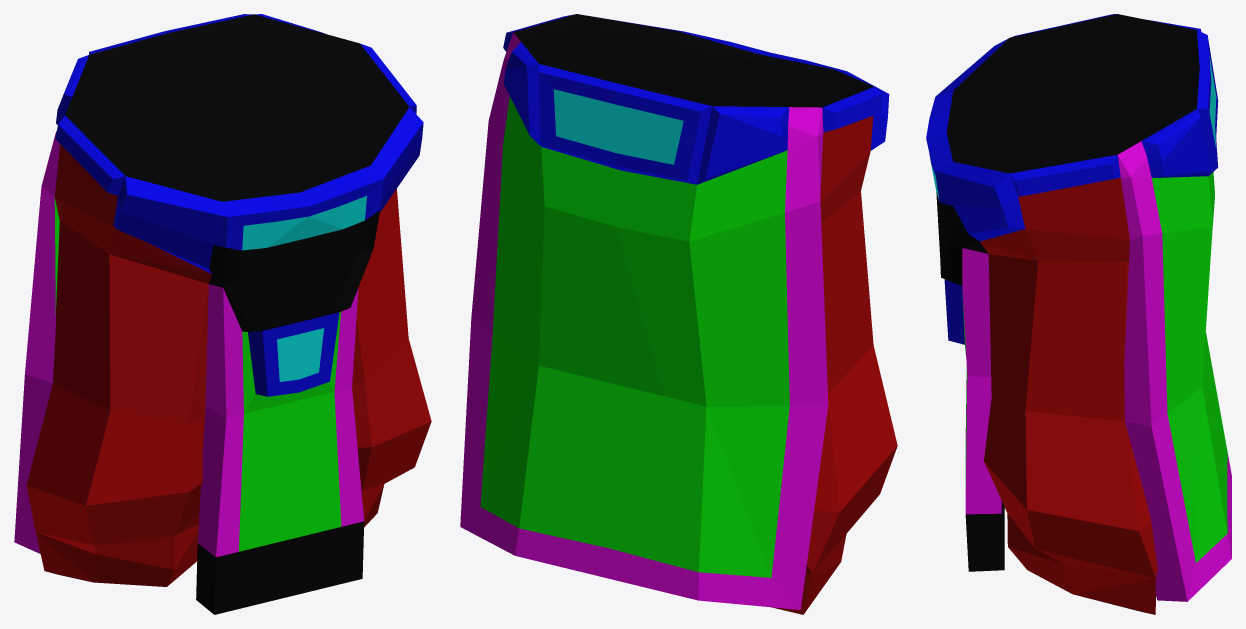
File: Chr_Hips_Male_Static_22.fbx
3 views of the same model, side by side, from view 1: azimuth 30°, elevation 25°; view 2: azimuth 150°, elevation 25°; view 3: azimuth 270°, elevation 25° (orthographic). The views are drawn at different scales.
Parts seen in each view (by area): view 1: Chr_Hips_Male_22; view 2: Chr_Hips_Male_22; view 3: Chr_Hips_Male_22.
Part boxes in pixels (<box>): Chr_Hips_Male_22: <box>14,14,431,614</box>; Chr_Hips_Male_22: <box>460,14,897,614</box>; Chr_Hips_Male_22: <box>926,14,1231,614</box>.
Size of the model in its own units: 41.8 by 55.45 by 32.33.
